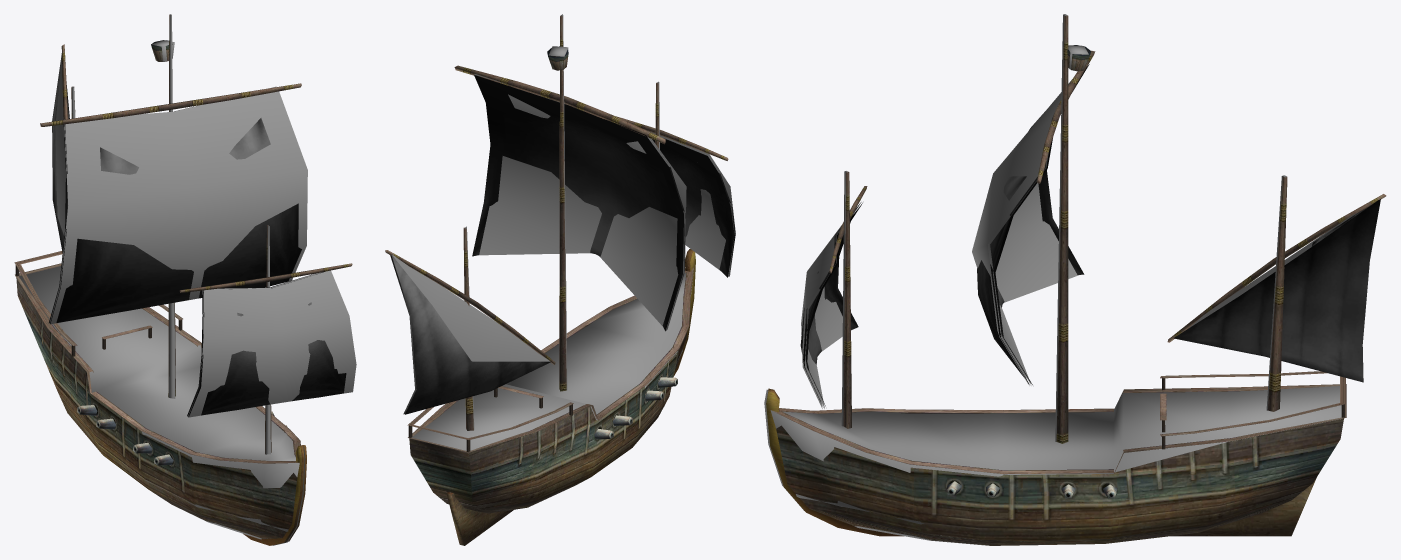
File: F_Ship_03.fbx
3 views of the same model, side by side, from view 1: azimuth 30°, elevation 25°; view 2: azimuth 150°, elevation 25°; view 3: azimuth 270°, elevation 25° (orthographic). The views are drawn at different scales.
Visible parts, largest first — view 1: F_Ship_03_FakeShadow, F_Ship_03, F_Ship_03_Sail; view 2: F_Ship_03_FakeShadow, F_Ship_03_Sail, F_Ship_03; view 3: F_Ship_03, F_Ship_03_FakeShadow, F_Ship_03_Sail.
Part boxes in pixels (left/top/right/bottom): F_Ship_03_FakeShadow: left=19, top=14, right=356, bottom=545; F_Ship_03: left=14, top=14, right=352, bottom=545; F_Ship_03_Sail: left=49, top=53, right=346, bottom=417; F_Ship_03_FakeShadow: left=392, top=14, right=735, bottom=492; F_Ship_03_Sail: left=390, top=75, right=735, bottom=414; F_Ship_03: left=385, top=15, right=728, bottom=545; F_Ship_03: left=766, top=15, right=1386, bottom=545; F_Ship_03_FakeShadow: left=764, top=14, right=1356, bottom=545; F_Ship_03_Sail: left=800, top=64, right=1380, bottom=407.
Size of the model in its own units: 0.3221 by 0.6019 by 0.6526.
3 materials, 2 textured.
